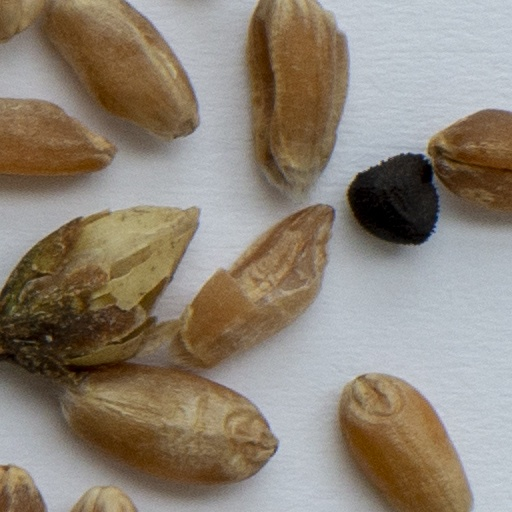Agrostemma-poly: (347, 149, 441, 248)
Peel-poly: (0, 208, 197, 379)
